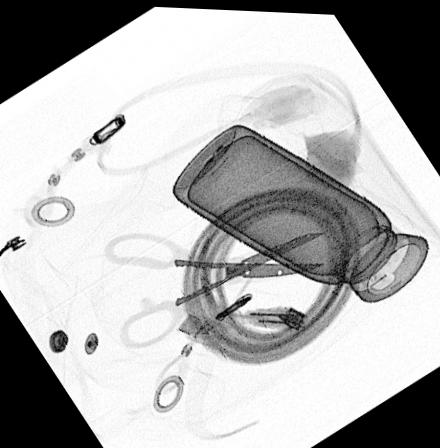Scissors: (102, 228, 326, 347)
